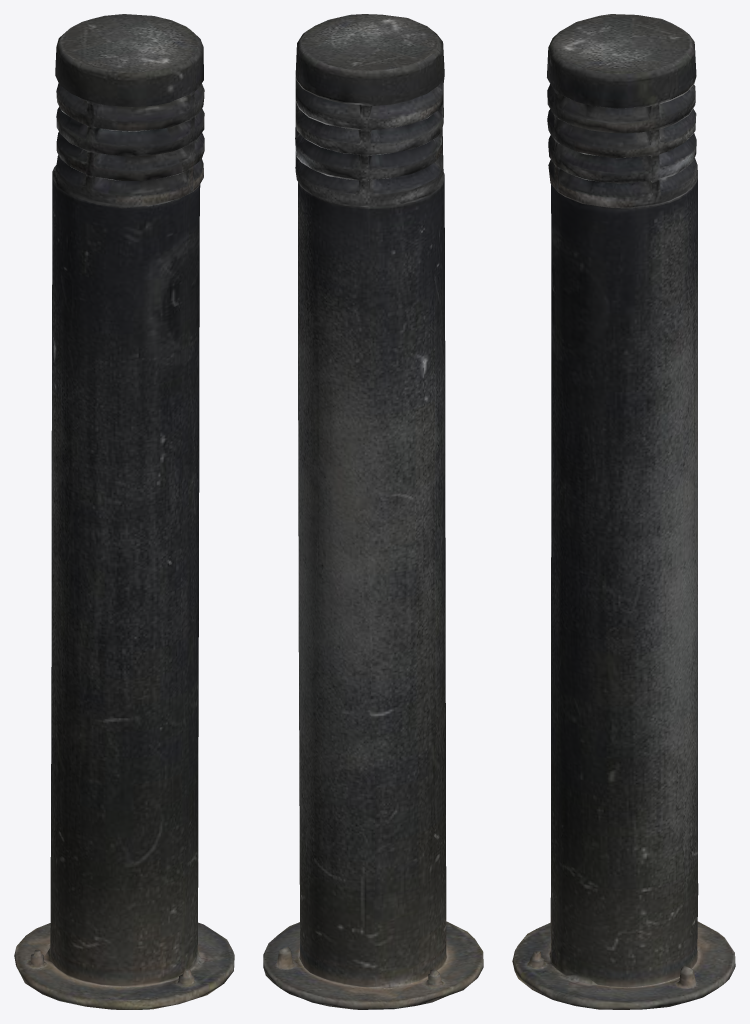
File: bollard.glb
3 renders of one model, left to right at view 1: azimuth 30°, elevation 25°; view 2: azimuth 150°, elevation 25°; view 3: azimuth 270°, elevation 25°, orthographic.
Parts seen in each view (by area): view 1: Megascans bollard; view 2: Megascans bollard; view 3: Megascans bollard.
Boxes of the visible parts, x1,y1,x2,y2 form: Megascans bollard: [14, 14, 234, 1009]; Megascans bollard: [263, 14, 483, 1009]; Megascans bollard: [512, 14, 735, 1009].
Bounding box in the file's own units: 0.2048 × 0.9412 × 0.2062.
Materials: 1 (1 with a texture image).
